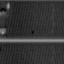dust: (31, 29, 35, 34)
